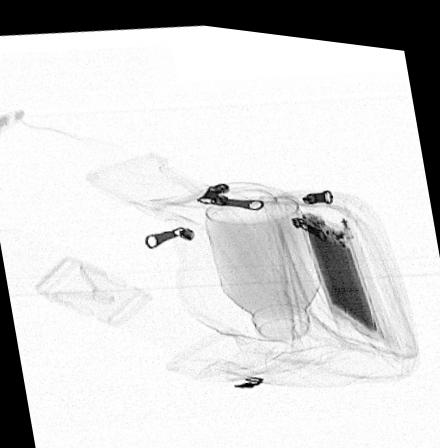Powerbank: (299, 204, 384, 328)
